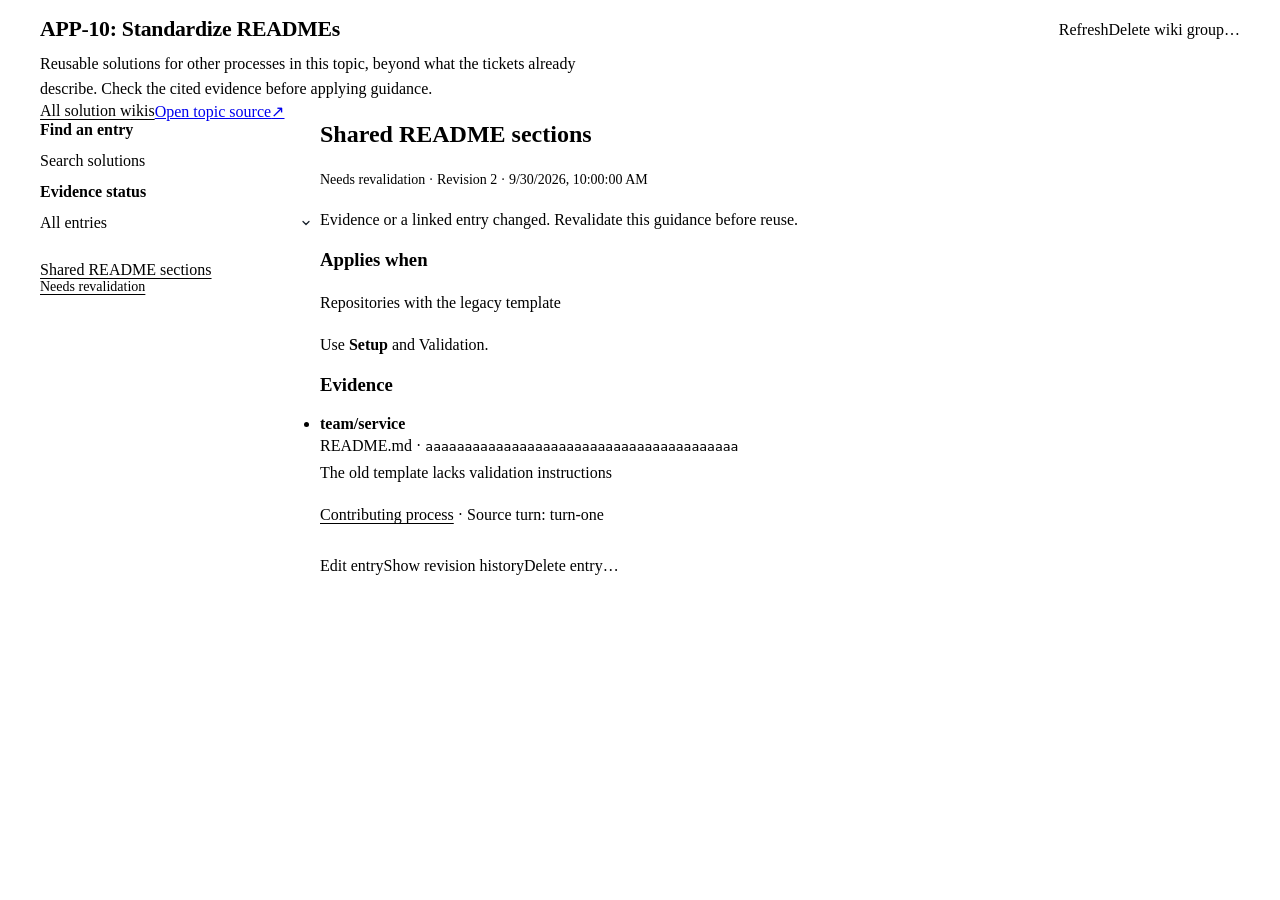
Test: edits entry content with its read revision and keeps evidence in the saved entry
Click the button "Edit entry": (352, 566) [320, 544, 384, 588]
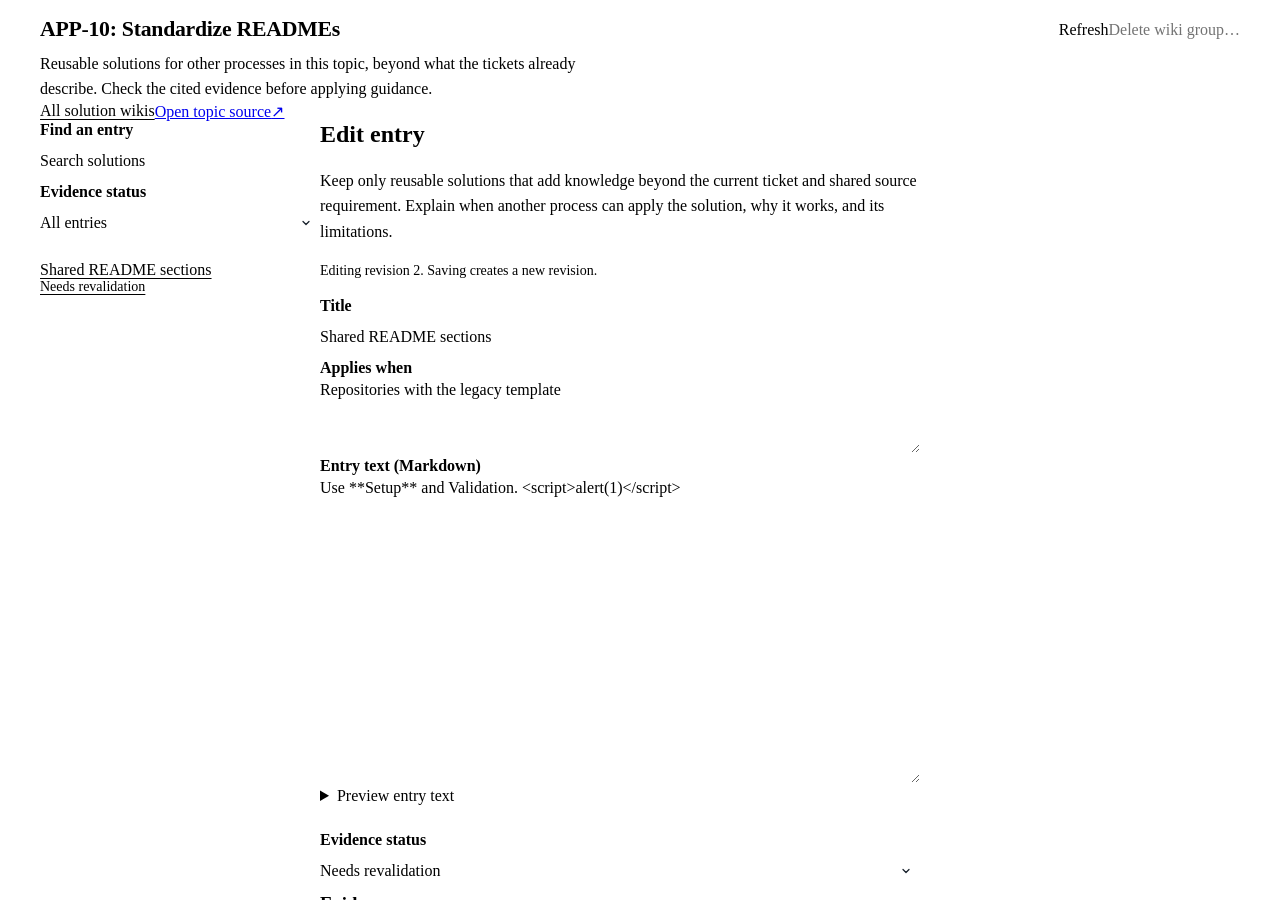
Expected: the field with id "wiki-edit-title" is shown
Replace the text in the field with id "wiki-edit-title" with "Corrected README sections": (620, 337) [320, 315, 920, 359]
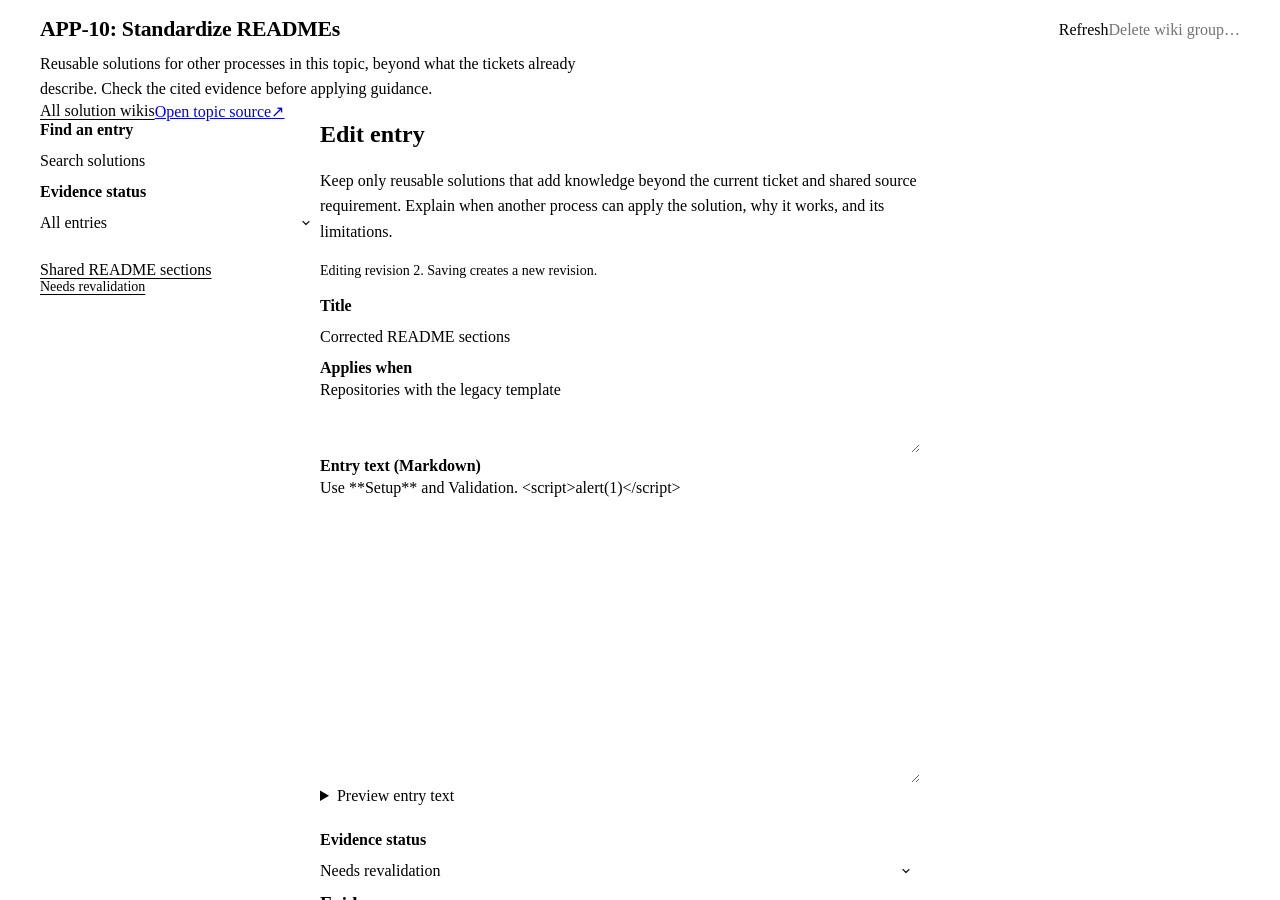
Replace the text in the text box with id "wiki-edit-markdown" with "Use **Setup**, Validation and Troubleshooting.": (620, 629) [320, 476, 920, 783]
(page scrolled)
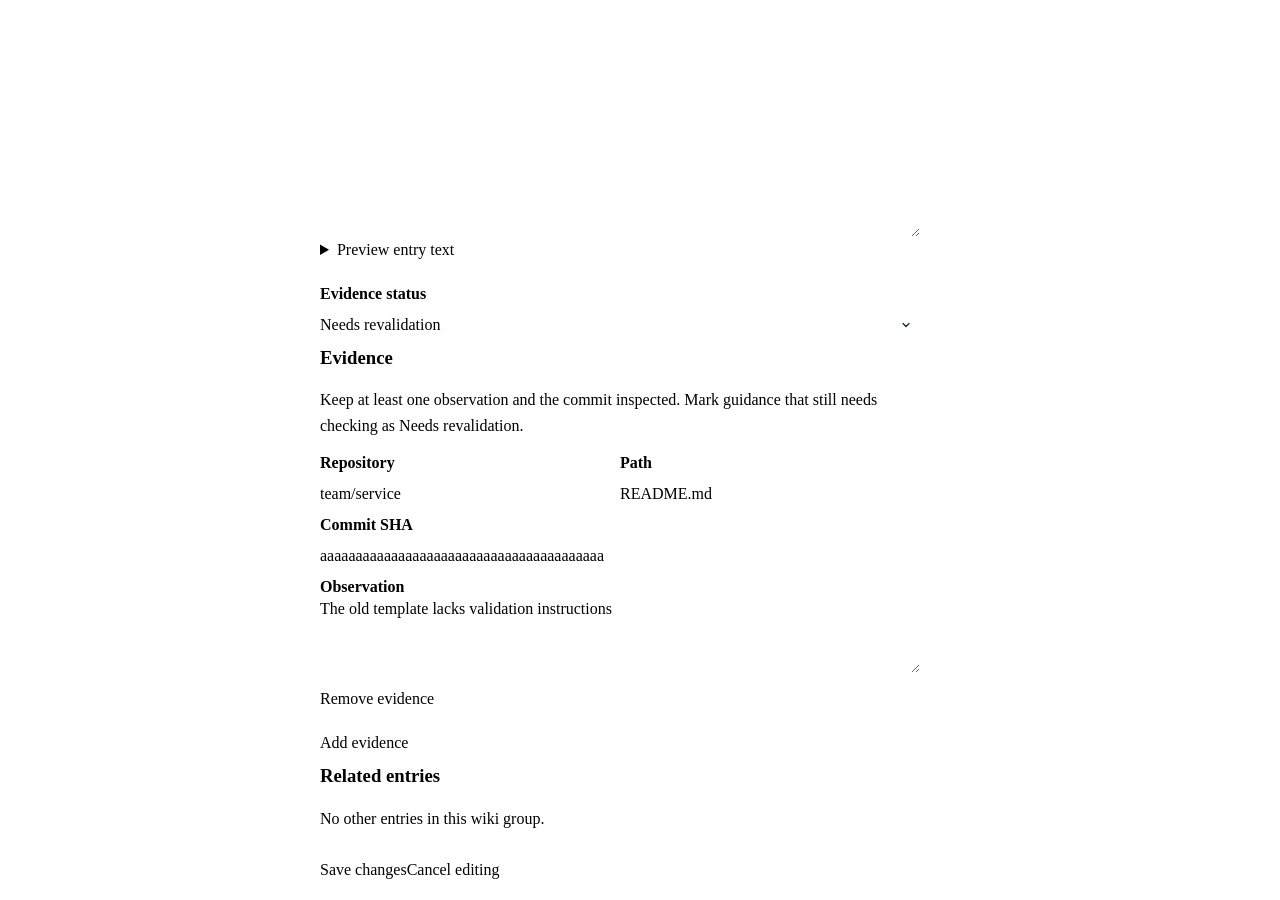
Click the button "Save changes": (363, 870) [320, 848, 407, 892]
(page scrolled)
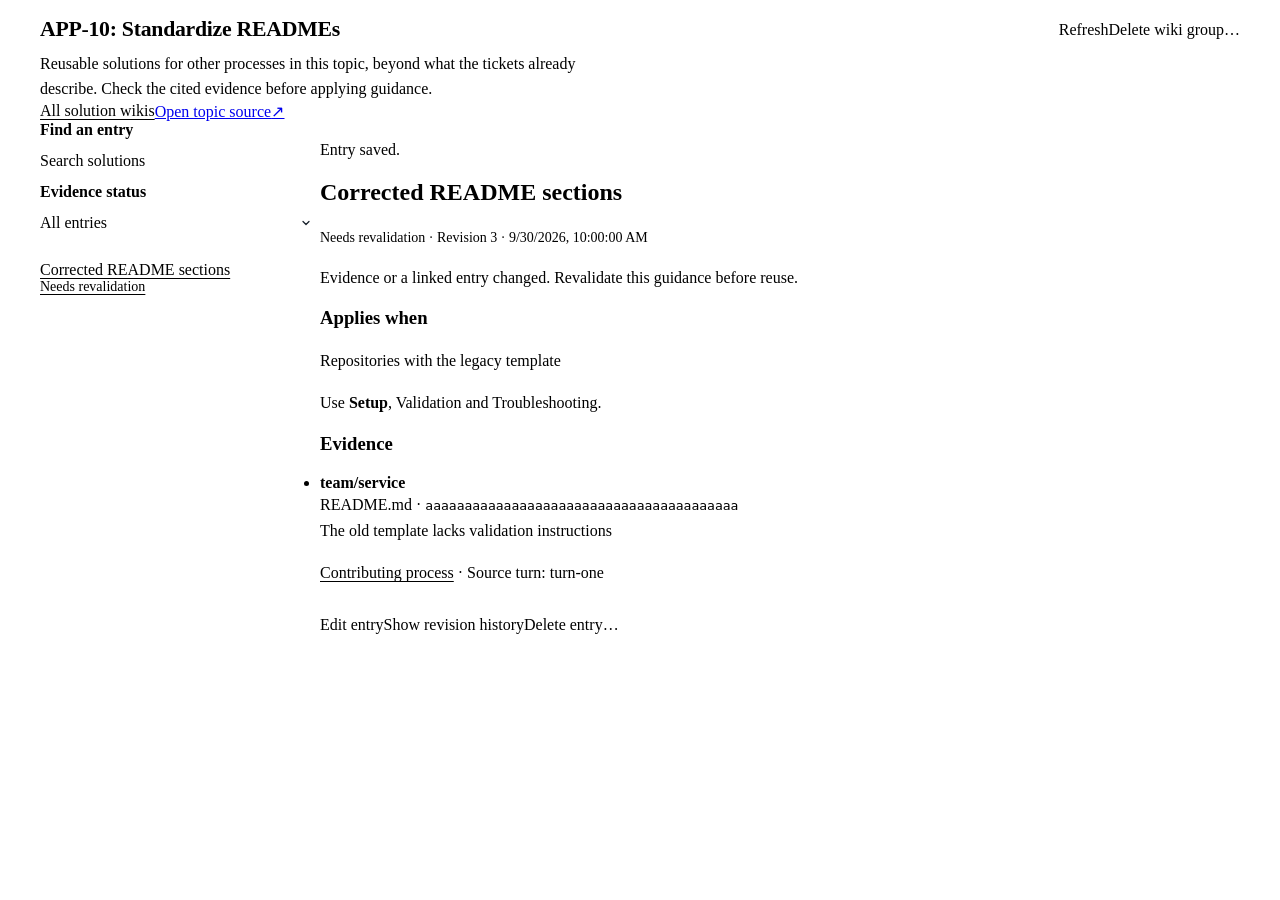
Expected: the text "Entry saved." is shown, [320, 141, 400, 158]
Expected: the text "Revision 3" is shown, [320, 230, 648, 245]
